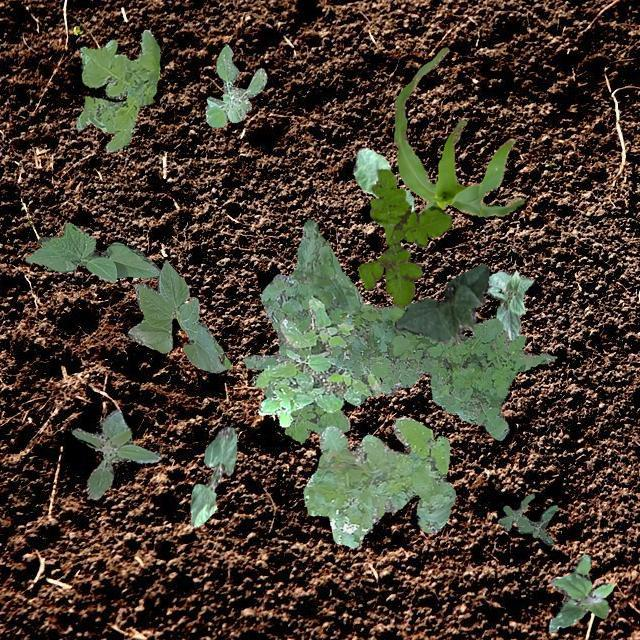crop: (392, 46, 524, 216), (126, 260, 230, 372), (24, 222, 160, 282), (394, 262, 488, 342), (190, 426, 236, 526), (352, 146, 412, 212), (484, 268, 534, 339)
weed: (329, 302, 555, 438), (242, 218, 364, 442), (302, 416, 454, 546), (254, 292, 380, 426), (358, 168, 450, 306), (76, 28, 160, 150), (70, 408, 160, 498), (204, 42, 266, 126), (548, 554, 612, 632), (496, 492, 556, 544)
